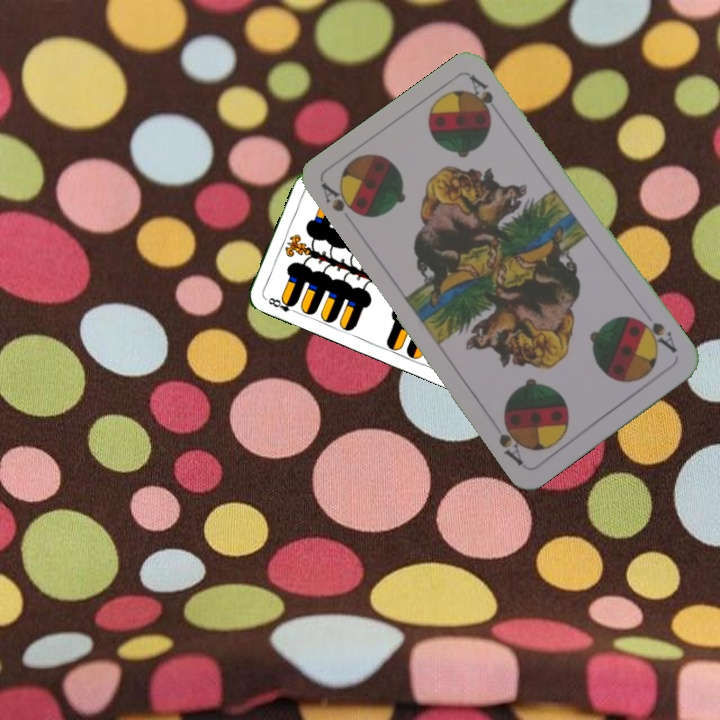E8: (262, 293, 300, 316)
SA: (632, 314, 680, 356), (318, 179, 362, 220)
